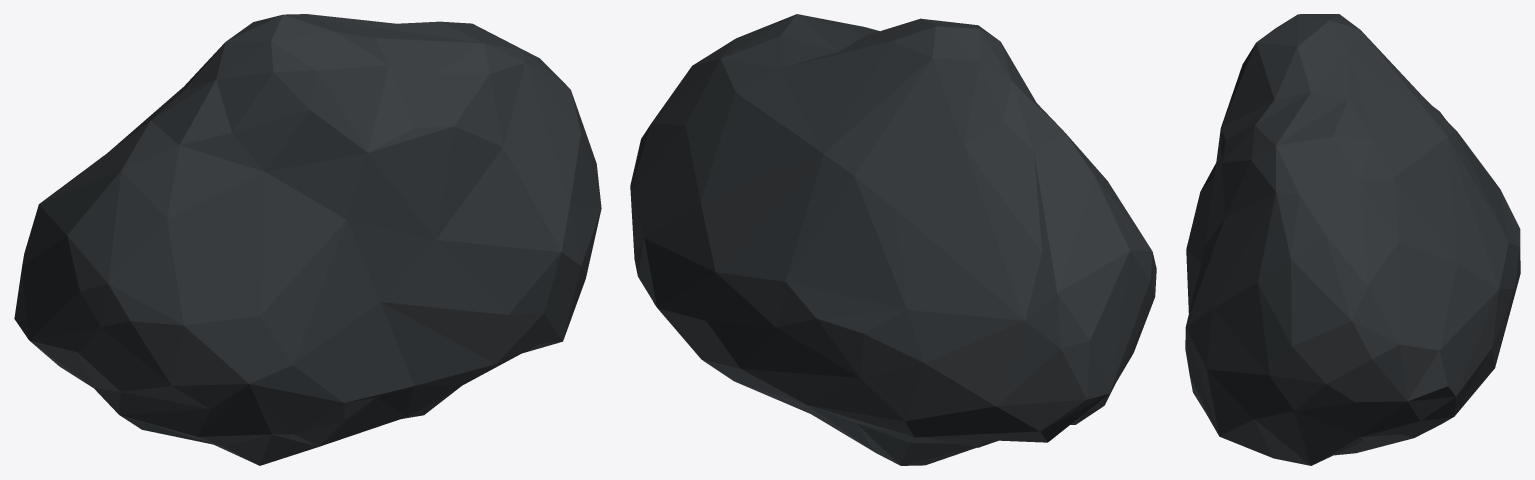
The model's file is Cloud_01.fbx.
The picture shows the model from 3 angles, left to right: view 1: azimuth 30°, elevation 25°; view 2: azimuth 150°, elevation 25°; view 3: azimuth 270°, elevation 25°; orthographic projection. The views are drawn at different scales.
Visible parts, largest first — view 1: Cloud_01; view 2: Cloud_01; view 3: Cloud_01.
Boxes of the visible parts, box(x1,y1,x2,y2) form: Cloud_01: box(14, 14, 601, 465); Cloud_01: box(630, 14, 1156, 465); Cloud_01: box(1185, 14, 1520, 465).
Size of the model in its own units: 3.26 by 2.67 by 1.97.
